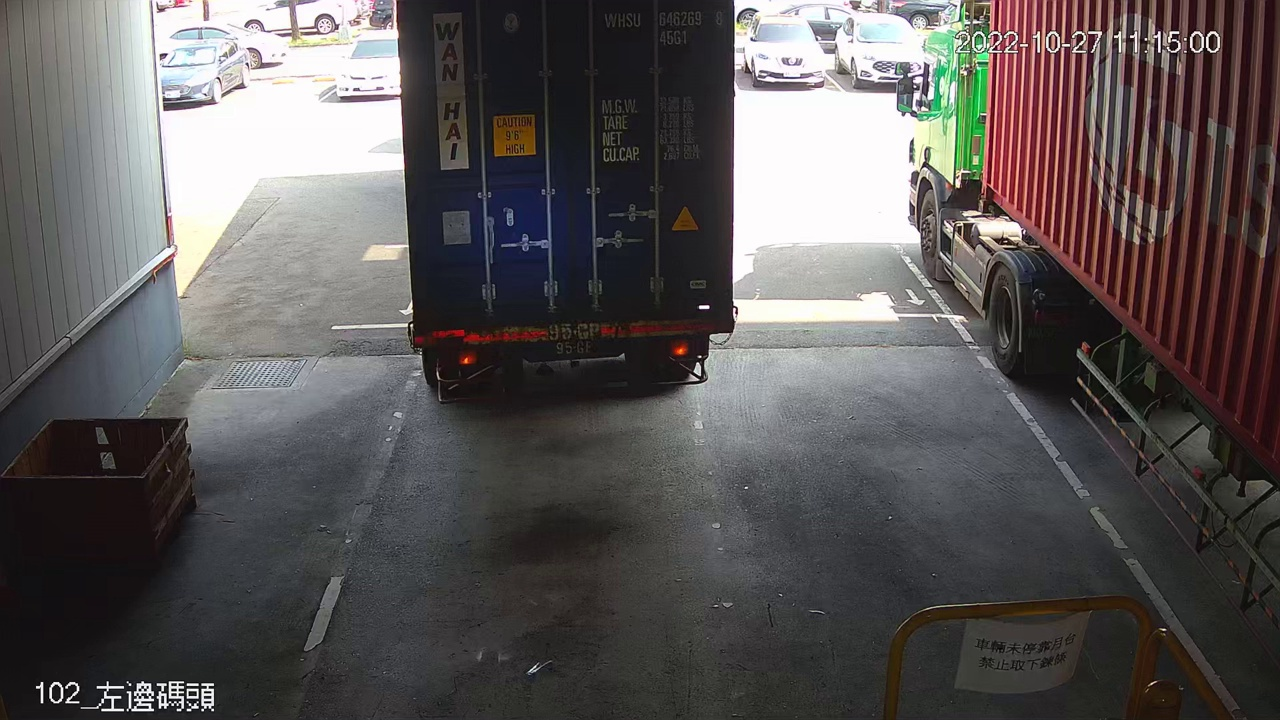container: (600, 5, 727, 49)
